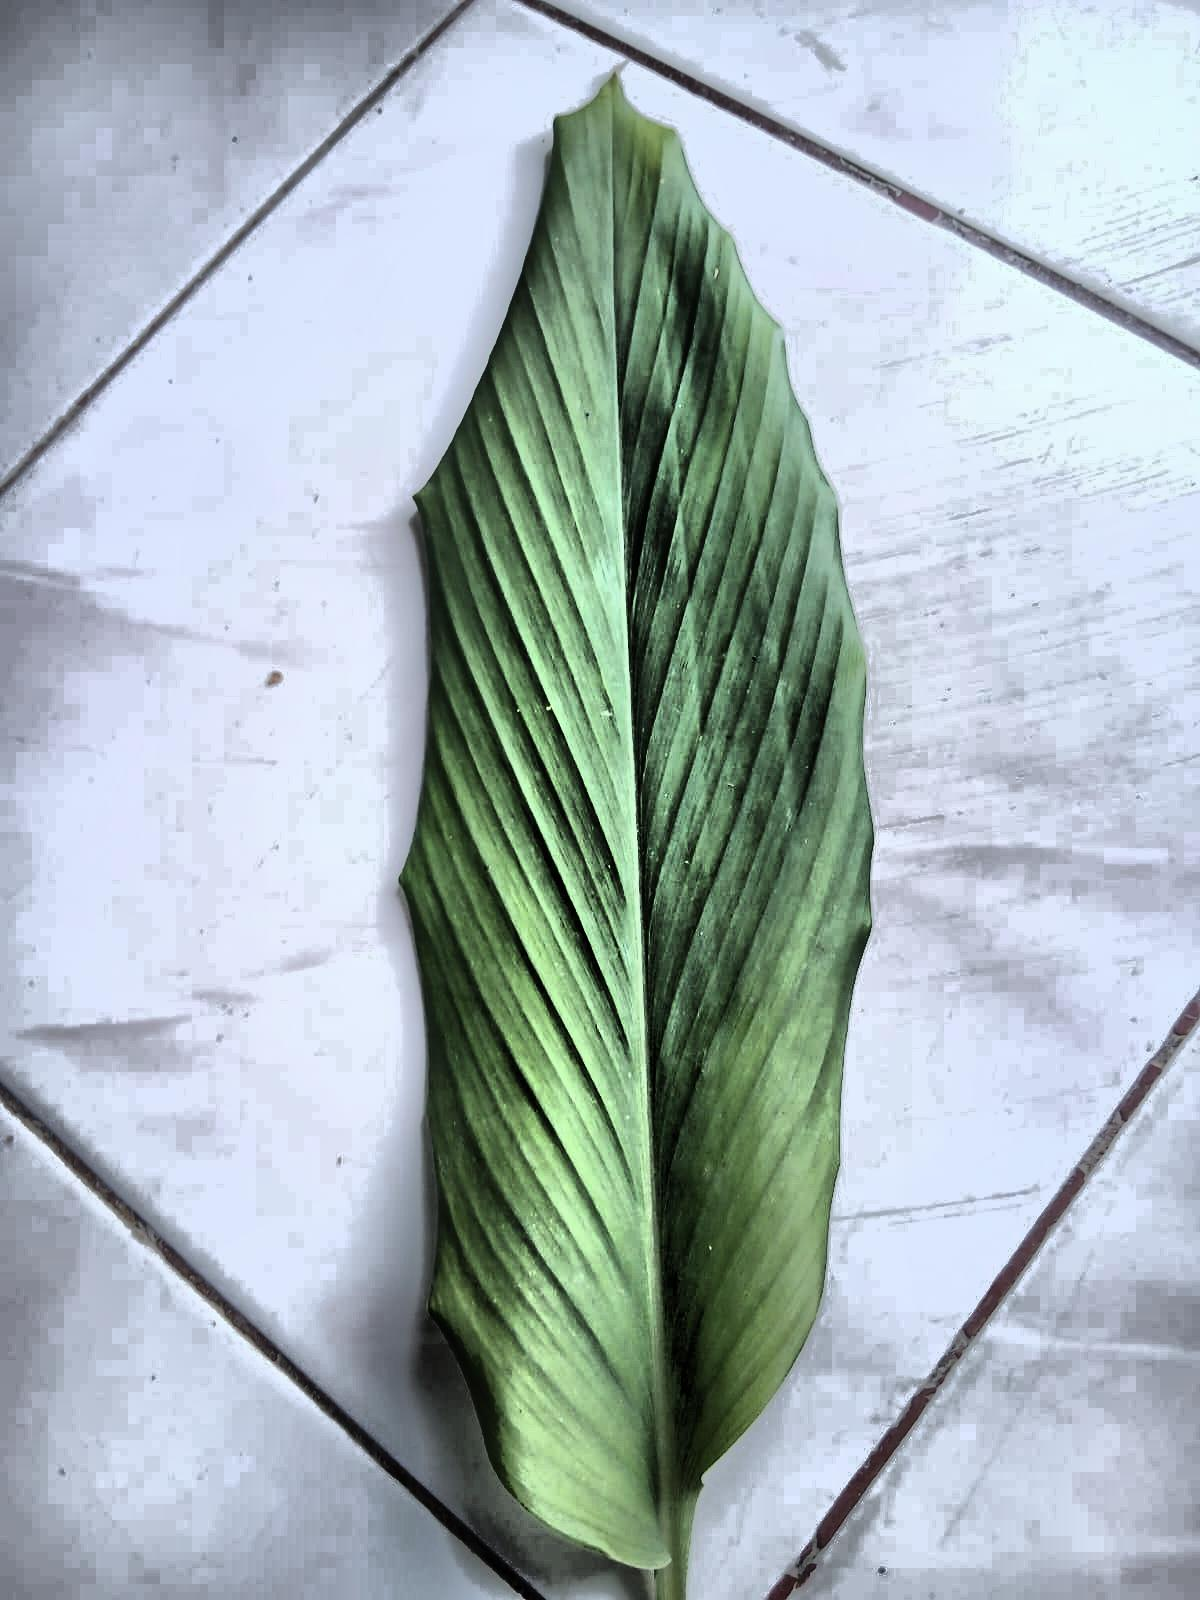daun kunyit: (402, 79, 872, 1599)
